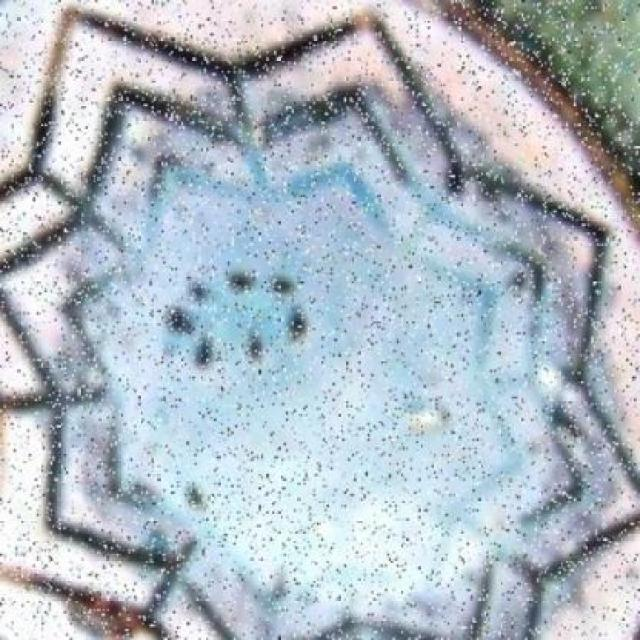Manhole: (9, 11, 628, 639)
